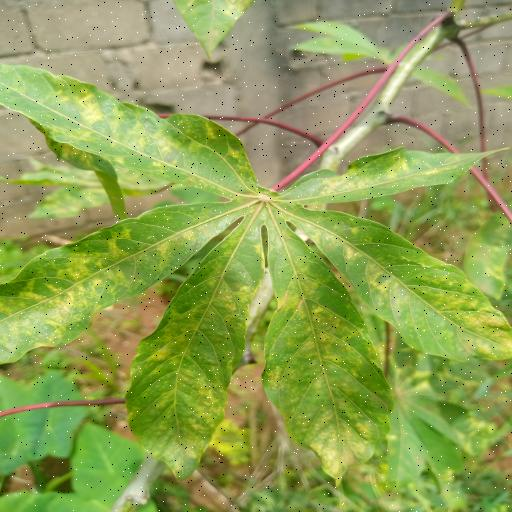Cassava_Mosaic: (3, 62, 512, 492)
